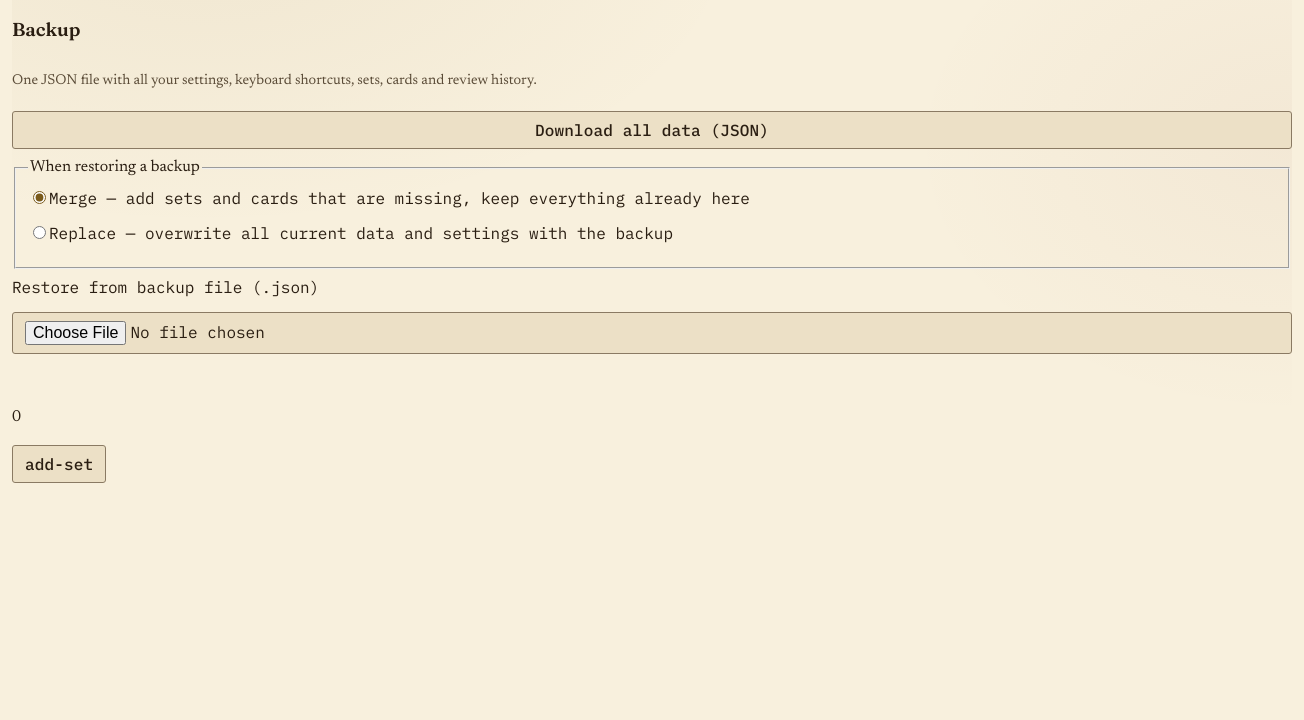
it: BackupField › downloads the whole app as one dated JSON file
Click the button "Download all data (JSON)" at {"x": 652, "y": 130}, box [12, 111, 1292, 149]
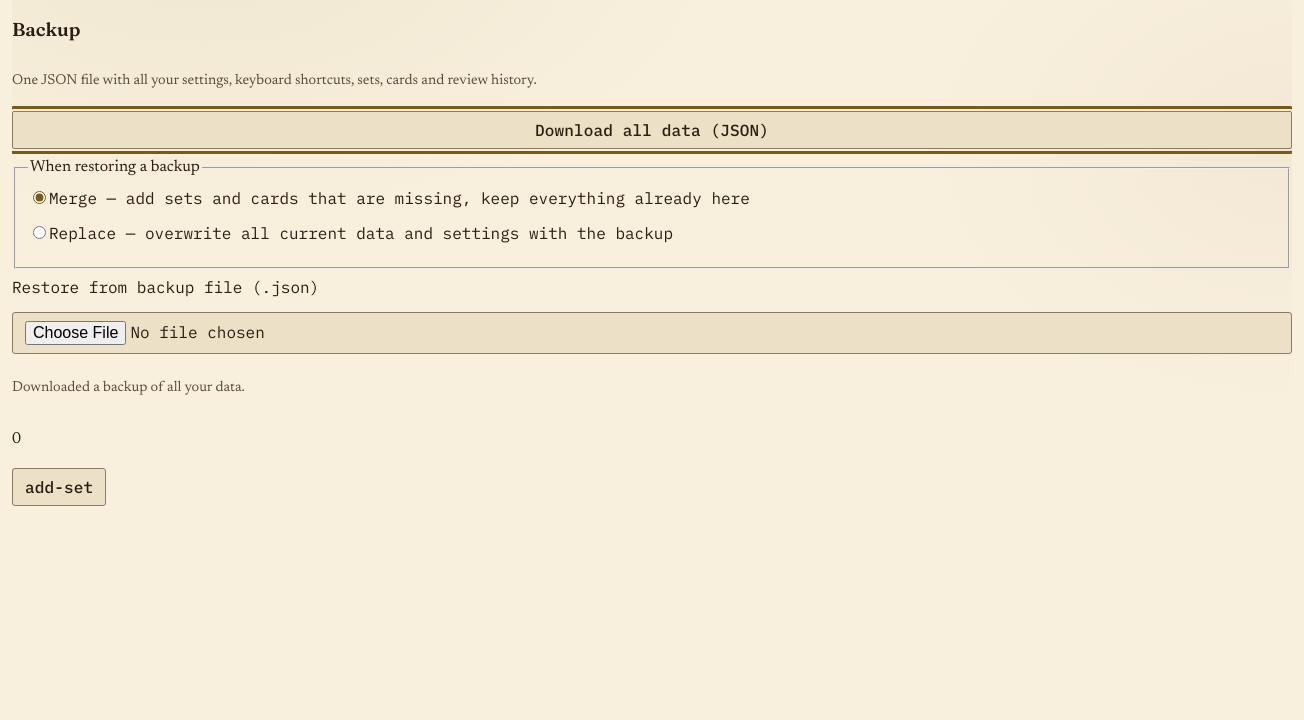
Result: the message shows "Downloaded" at [12, 380, 245, 394]
